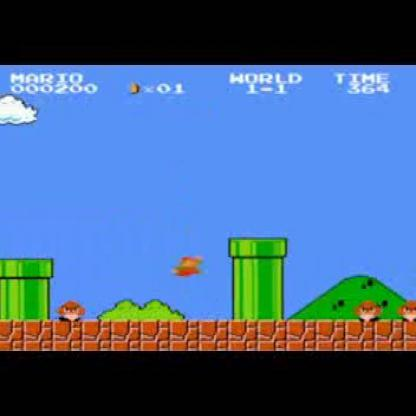Goomba: (56, 297, 89, 325), (355, 298, 381, 324), (396, 294, 415, 324)
